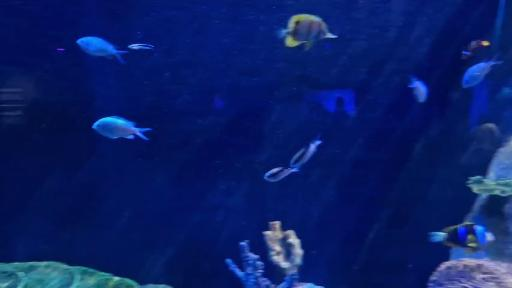Fish: (279, 14, 337, 50), (430, 223, 495, 253), (92, 116, 151, 140), (76, 37, 128, 63), (462, 55, 502, 87), (290, 137, 322, 167), (408, 76, 428, 102), (264, 167, 299, 181), (128, 44, 153, 49)
